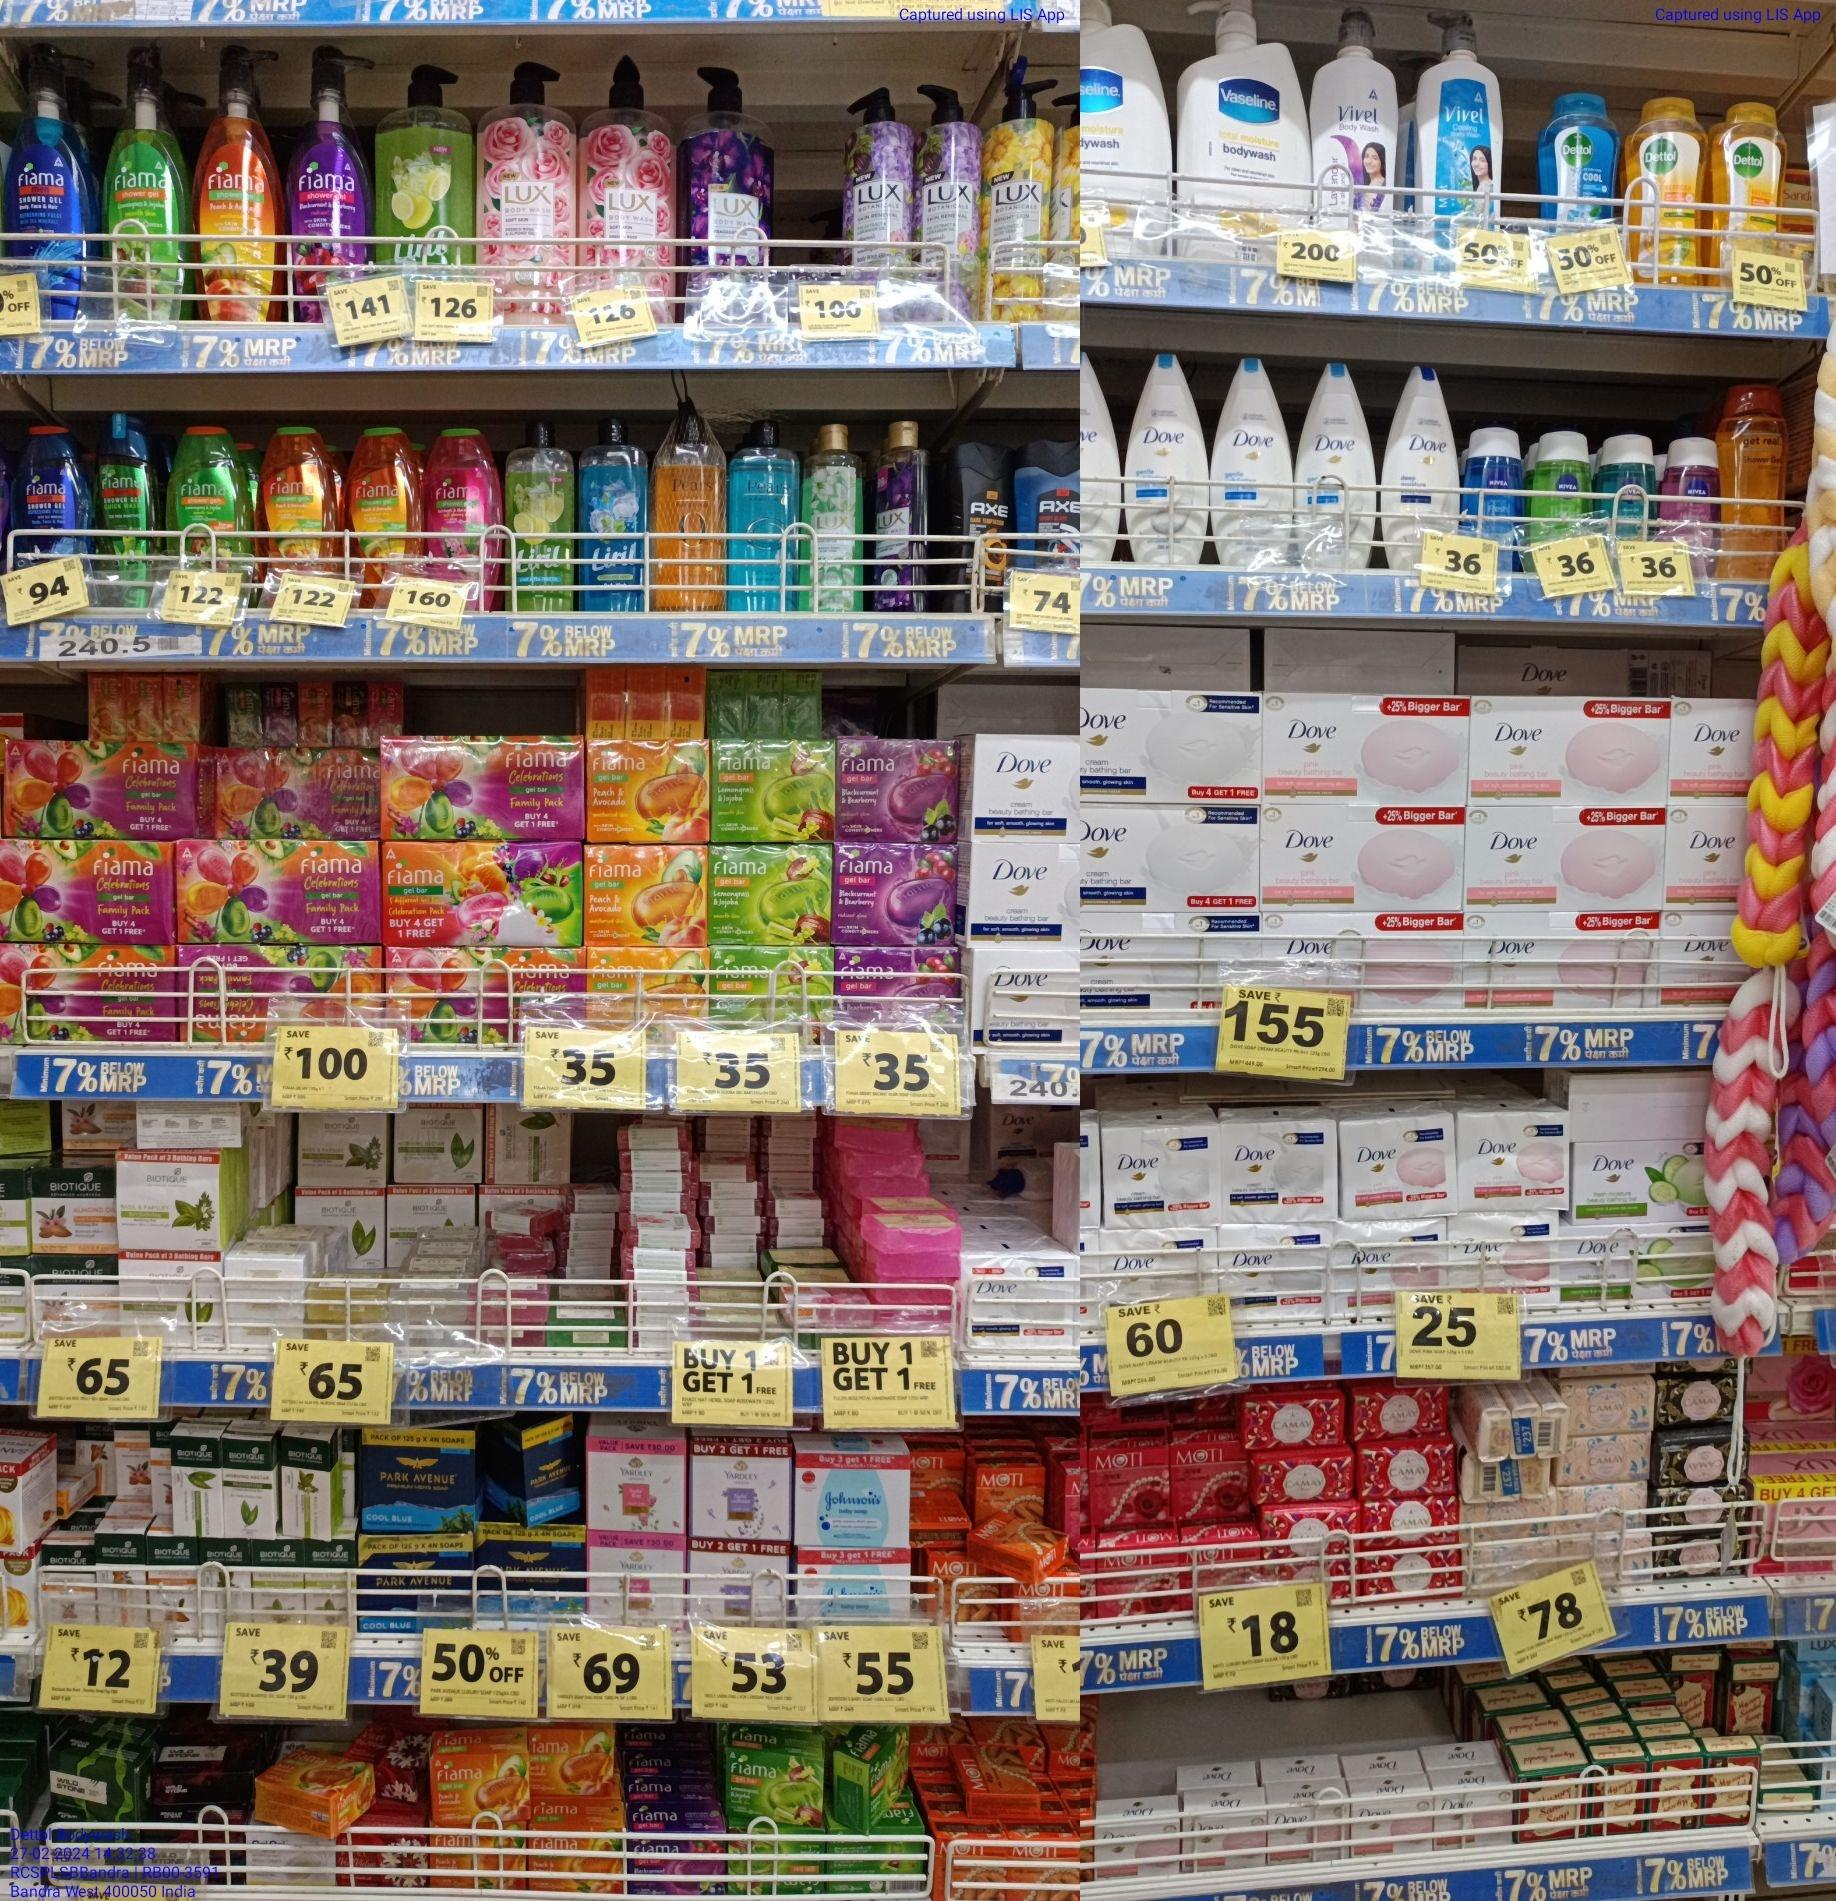Dettol_Bodywash_Cool: (1542, 88, 1620, 236)
Dettol_Bodywash_Refresh: (1631, 87, 1707, 287), (1712, 92, 1782, 265)
Dove_Deep_Moisture_Body_Wash_250ML: (1391, 365, 1464, 572)
Dove_Gentle_Exfoliating_Body_Wash_250ML: (1128, 348, 1208, 565), (1296, 358, 1373, 570), (1220, 356, 1295, 570)
Fiama_Shower_Gel_Lemongrass_and_Jojoba_250ML: (165, 424, 251, 584)
Fiama_Shower_Gel_Patchouli_and_Macadamia_250ML: (421, 418, 501, 608)
Fiama_Shower_Gel_Peach_and_Avocado_250ML: (258, 428, 339, 603), (350, 428, 417, 611)
Get_Real_Shower_Gel_Moisturising_Glycerin_300ML: (1721, 385, 1787, 586)
Liril_Cooling_Mint_Body_Wash_250ML: (580, 416, 653, 613)
Liril_Lime_and_Tea_Tree_Oil_Body_Wash_250ML: (504, 421, 574, 613)
Lux_Black_Orchid_Scent_and_Juniper_Oil_Body_Wash_245ML: (872, 416, 923, 616)
Lux_Body_Wash_Skin_Detox_Freesia_Scent_and_Alove_Vera_245ML: (804, 421, 867, 613)
Pears_Pure_Glycerin_and_Mint_Extracts_Body_Wash_250ML: (730, 418, 796, 613)
